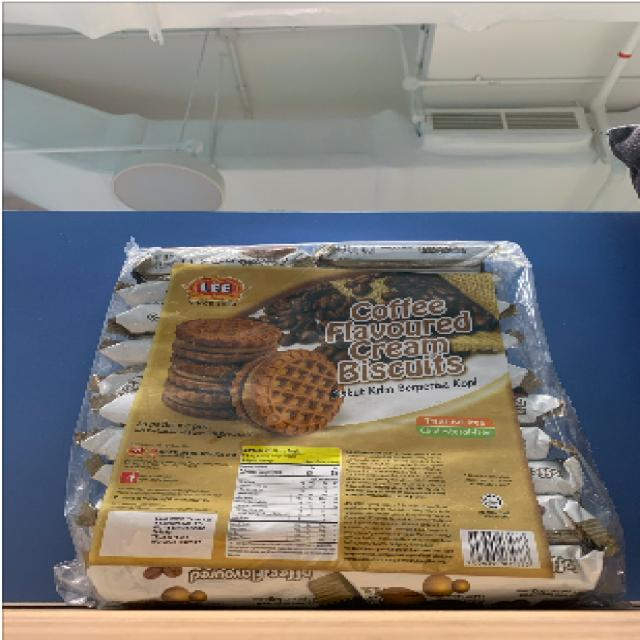object_name: (104, 247, 581, 586)
